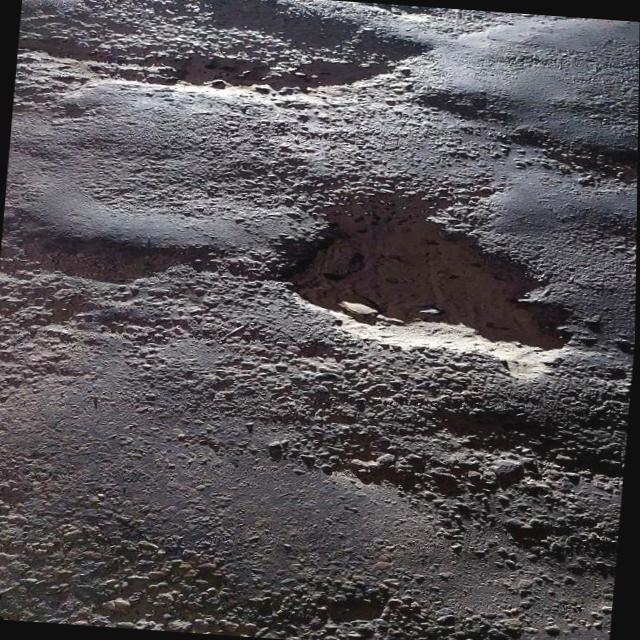Potholes: (306, 184, 561, 367), (44, 213, 204, 292)
